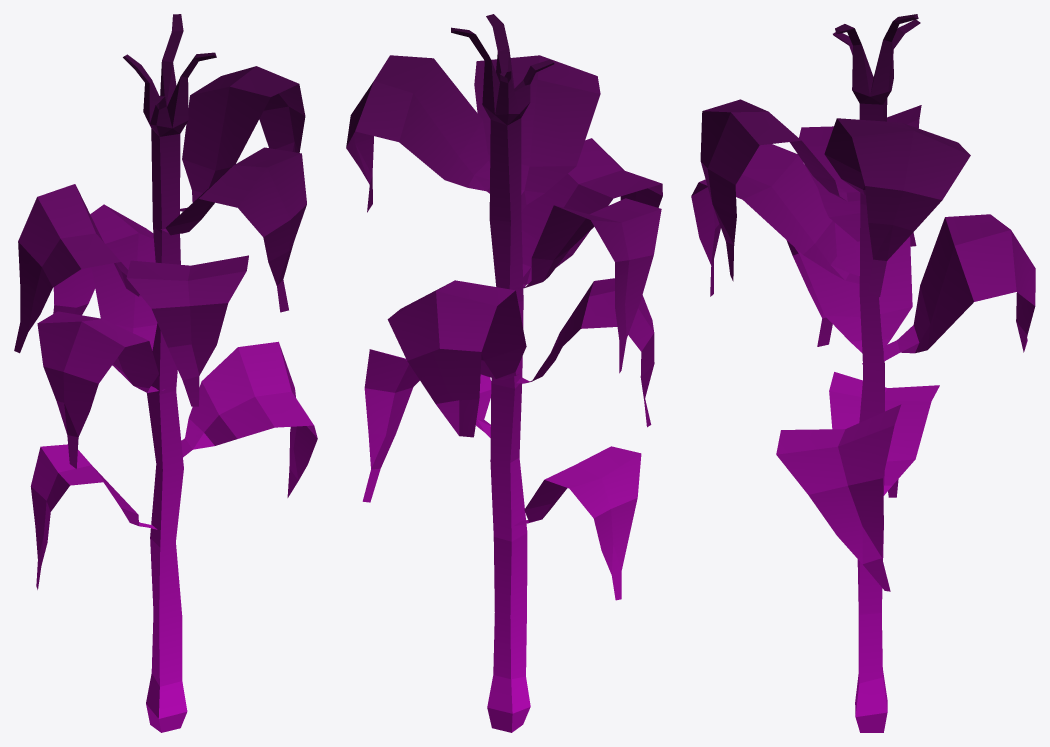
Rendered from SM_Prop_Plant_Corn_01_M.fbx.
3 views of the same model, side by side, from view 1: azimuth 30°, elevation 25°; view 2: azimuth 150°, elevation 25°; view 3: azimuth 270°, elevation 25° (orthographic). The views are drawn at different scales.
Parts seen in each view (by area): view 1: SM_Prop_Plant_Corn_01_M; view 2: SM_Prop_Plant_Corn_01_M; view 3: SM_Prop_Plant_Corn_01_M.
Boxes of the visible parts, bbox=[...] form: SM_Prop_Plant_Corn_01_M: bbox=[14, 14, 317, 732]; SM_Prop_Plant_Corn_01_M: bbox=[346, 14, 662, 732]; SM_Prop_Plant_Corn_01_M: bbox=[691, 14, 1035, 732].
Size of the model in its own units: 73.29 by 179 by 76.78.
